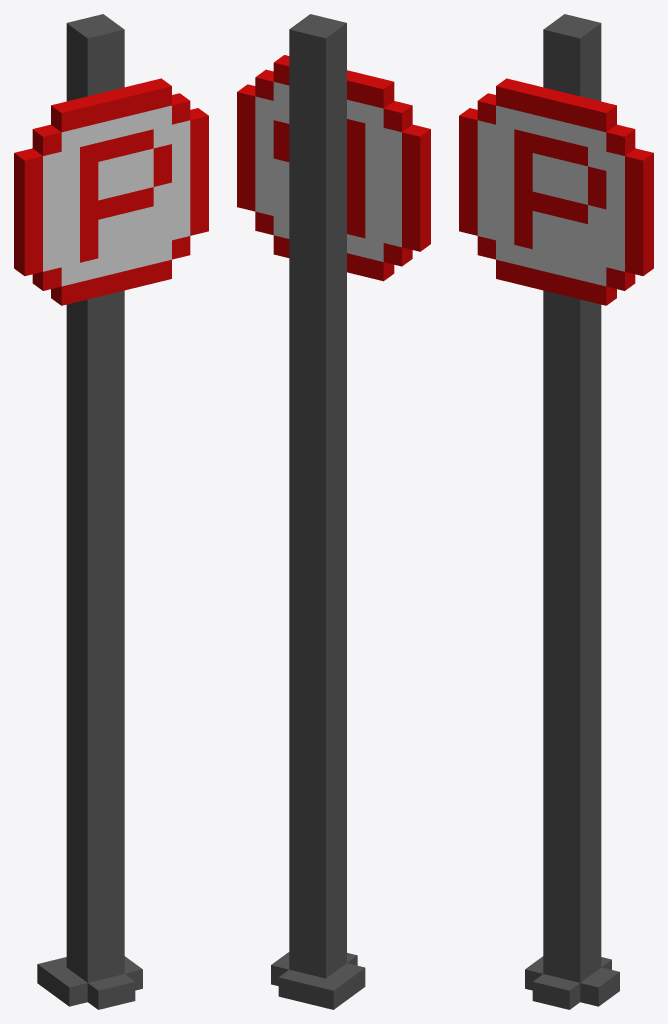
File: noParkingSign.glb
The picture shows the model from 3 angles, left to right: view 1: azimuth 30°, elevation 25°; view 2: azimuth 150°, elevation 25°; view 3: azimuth 330°, elevation 25°; orthographic projection.
Parts seen in each view (by area): view 1: ObjObject; view 2: ObjObject; view 3: ObjObject.
Part boxes in pixels (x1,y1,x2,y2): ObjObject: [14, 14, 208, 1009]; ObjObject: [237, 14, 430, 1009]; ObjObject: [459, 14, 653, 1009].
Size of the model in its own units: 1 by 5 by 0.4.
1 material, 1 textured.
